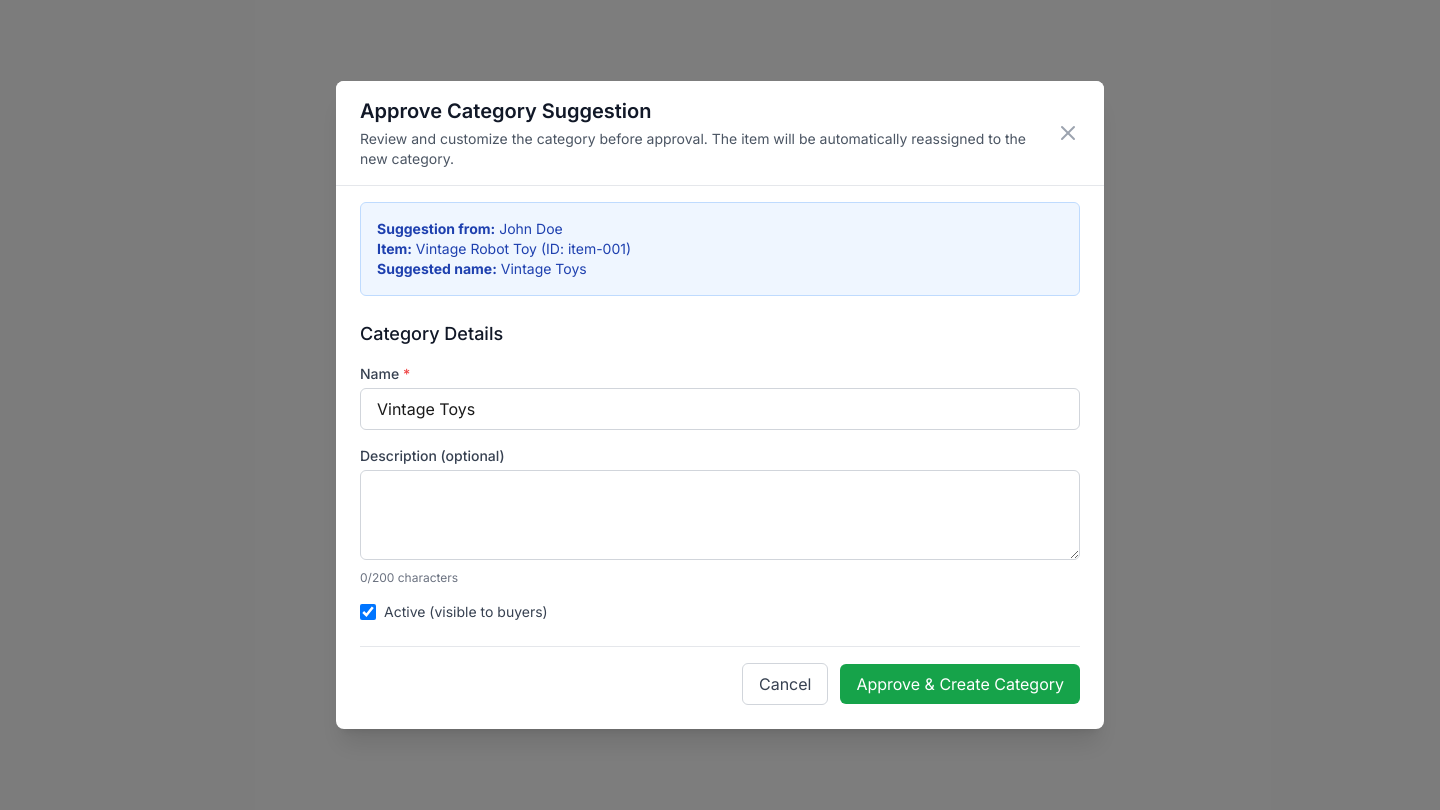
Scenario: ApproveSuggestionModal › validates name regex (alphanumeric + spaces only)
Replace the text in the field with test id "approve-form-name" with "Invalid@Name!" at (720, 409), box [360,388,1080,430]
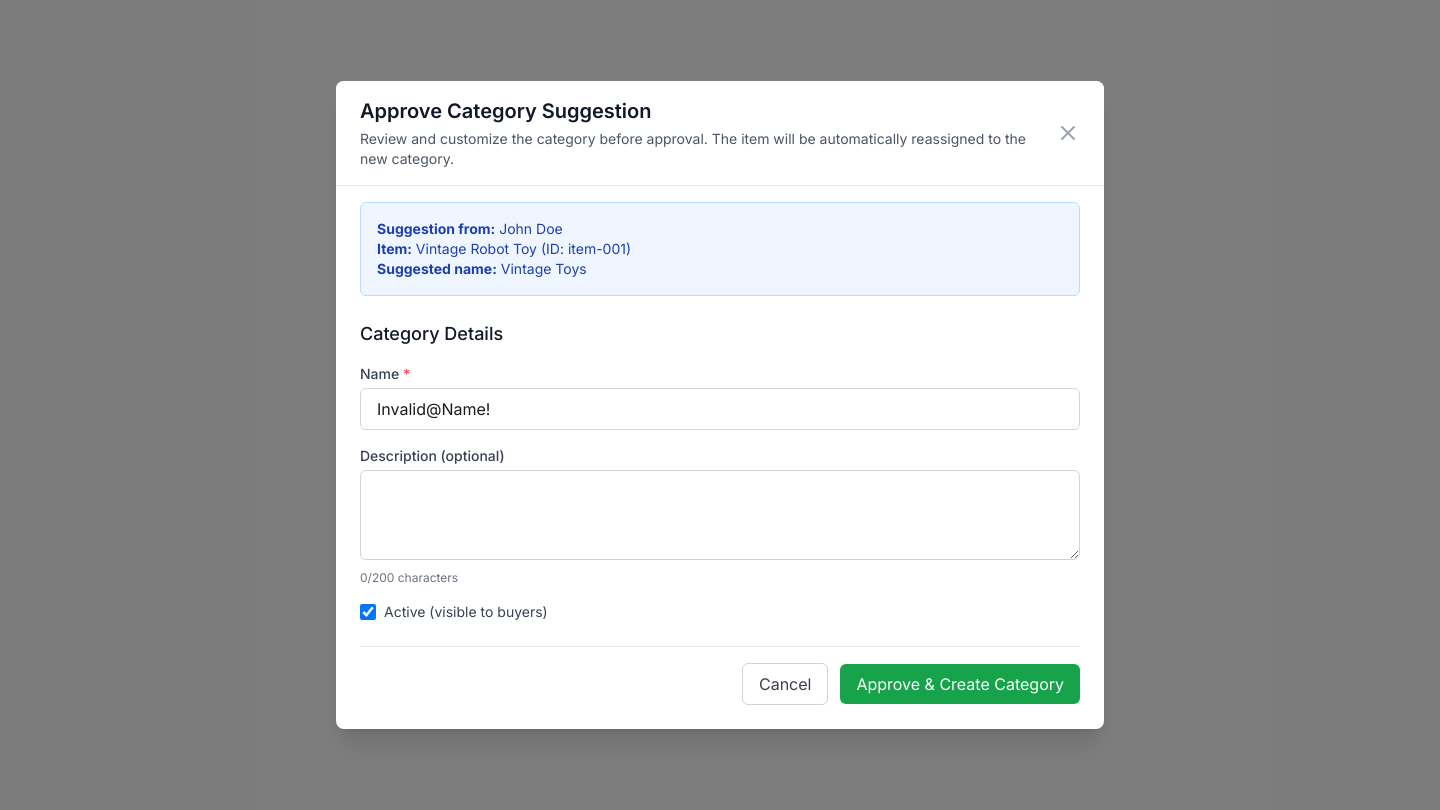
Click the button with test id "approve-form-submit" at (960, 684), box [840,664,1080,704]
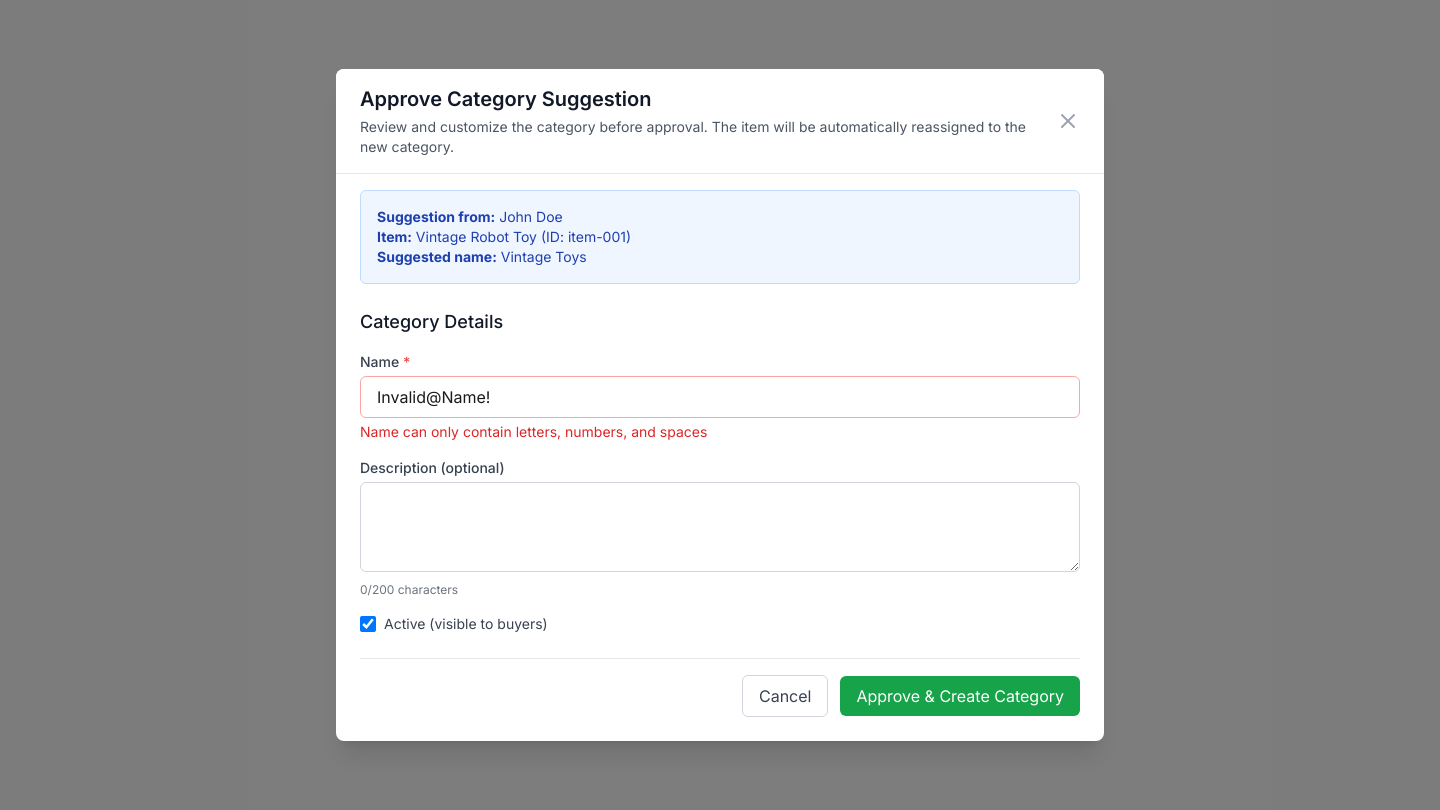
Now the text "Name can only contain letters, numbers, and spaces" is shown, box [360,423,707,440]
